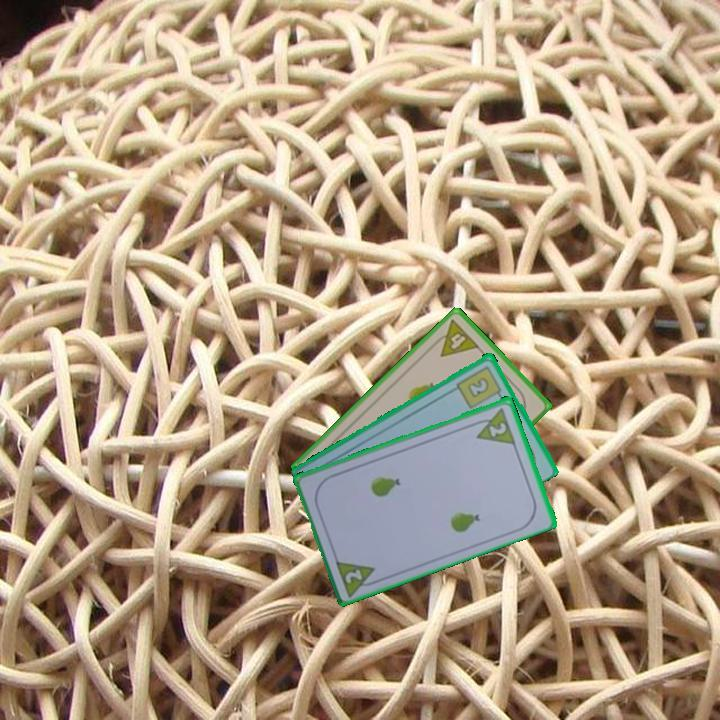2b: (453, 362, 505, 411)
2p: (332, 555, 383, 598), (469, 403, 518, 447)
4p: (428, 316, 482, 360)
